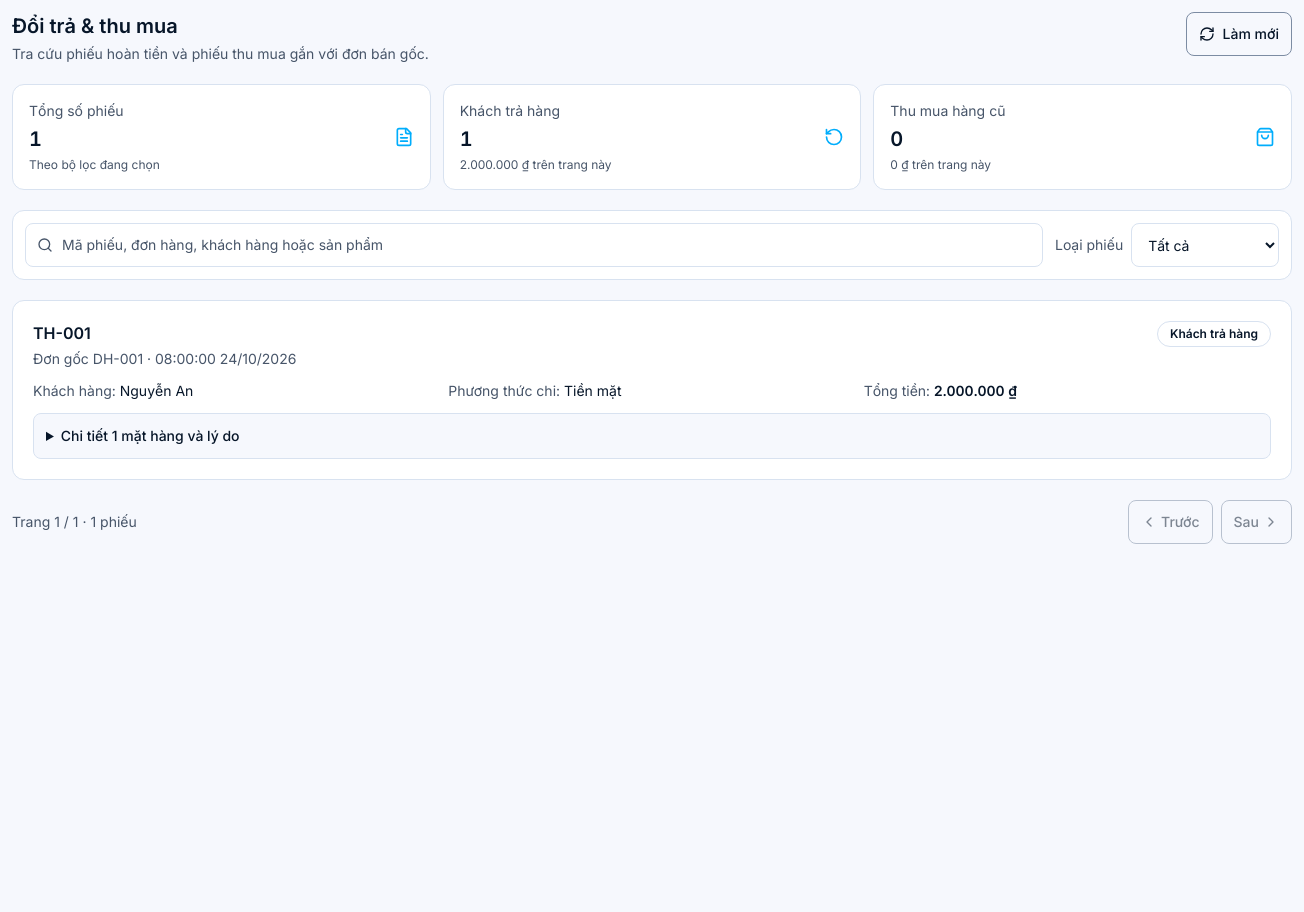
RetailReturnsPage › shows after-sale documents and their source order
Expected: the heading "TH-001" is shown, [33,323,91,343]
Expected: the text "Đơn gốc DH-001 · 08:00:00 24/10/2026" is shown, [33,349,296,369]
Click the heading "Chi tiết 1 mặt hàng và lý do" at {"x": 150, "y": 436}, box [61,427,240,444]
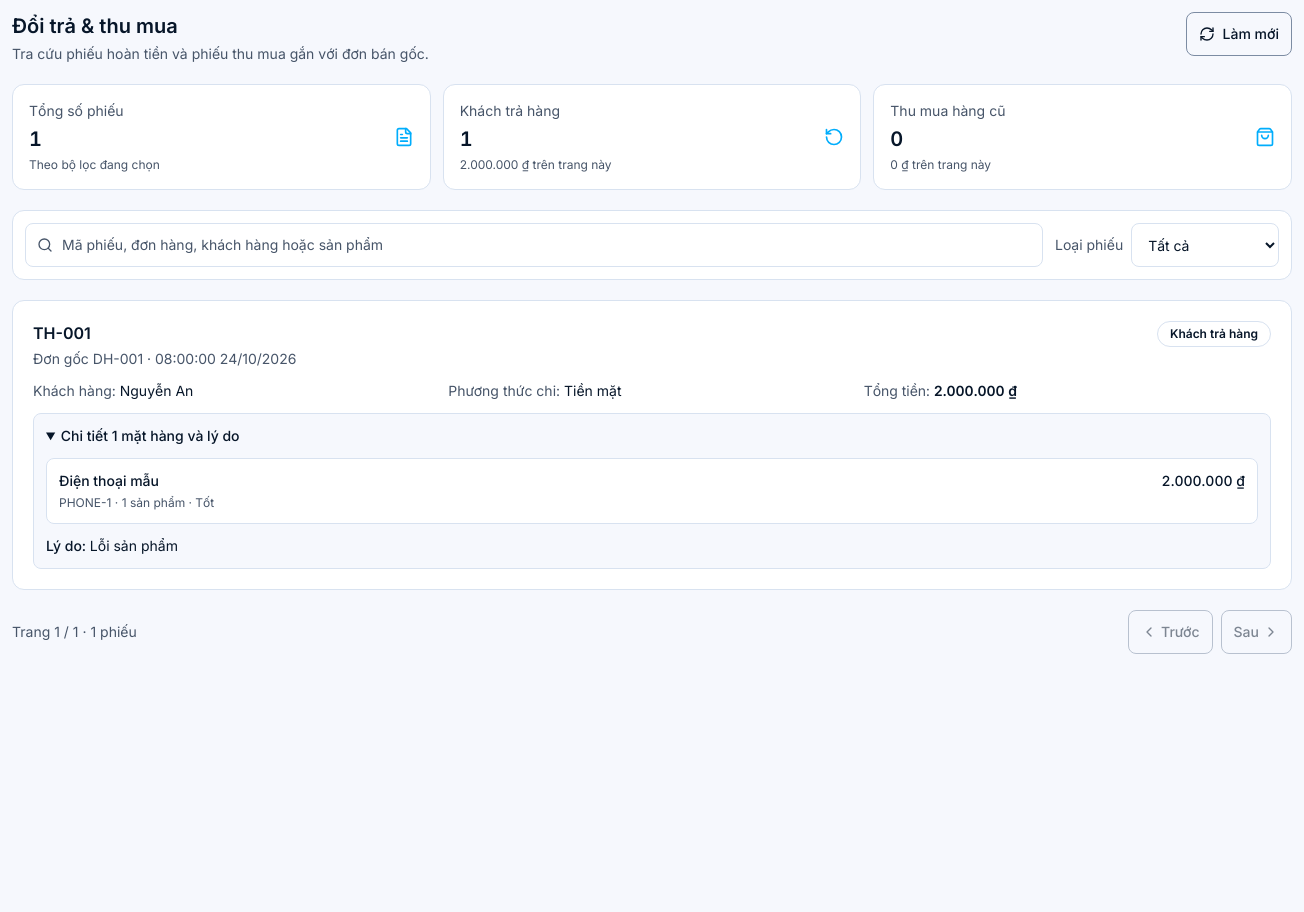
Result: the text "Điện thoại mẫu" is shown at [59,472,159,489]
